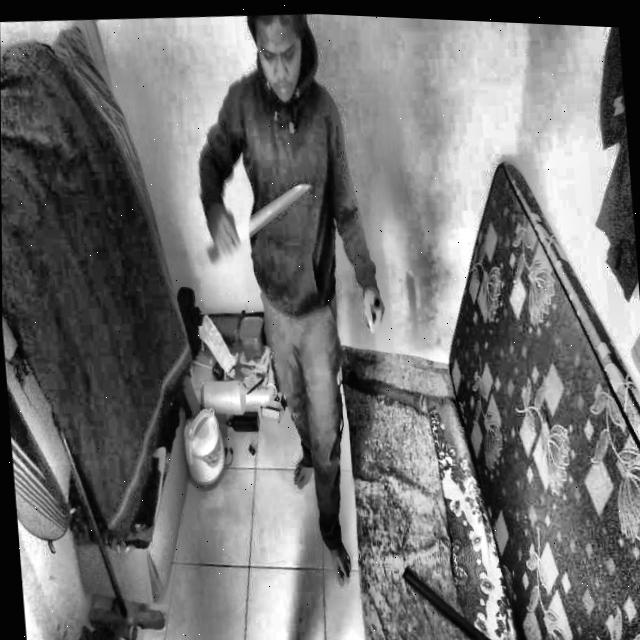pisau: (192, 173, 315, 277)
